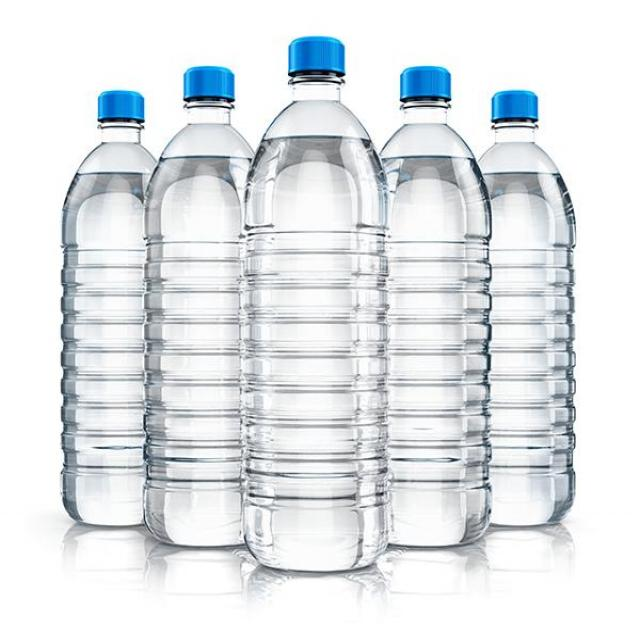plastic_bottle: (239, 32, 401, 574), (380, 60, 499, 554), (147, 65, 262, 555), (59, 81, 178, 529), (479, 84, 581, 533)
